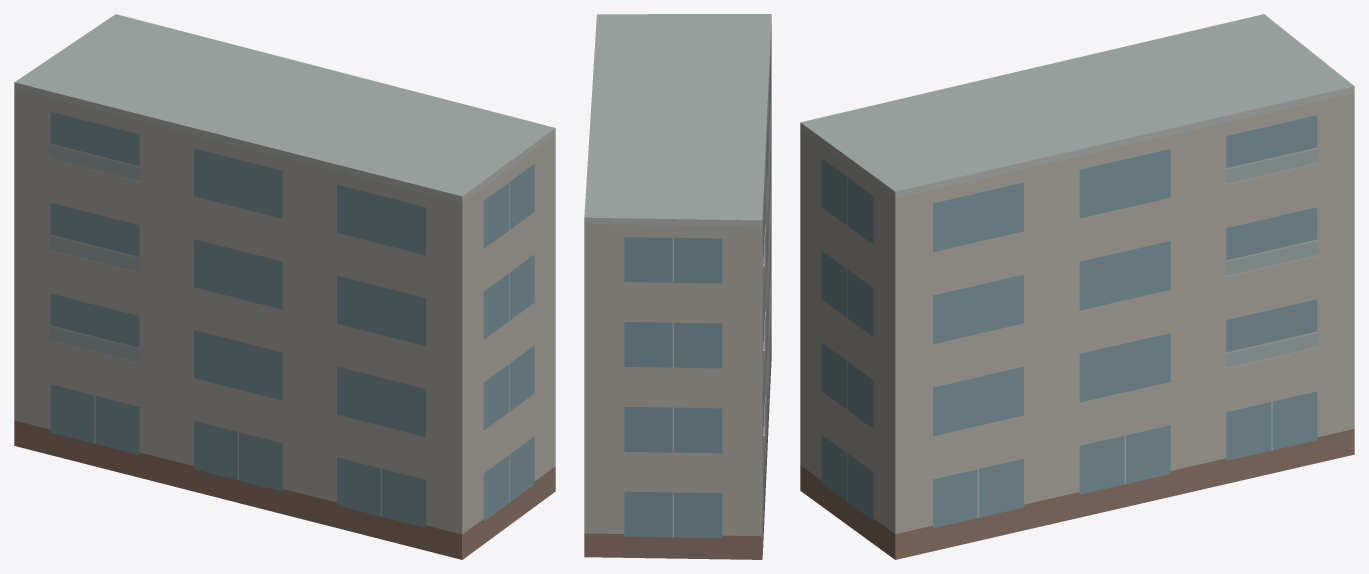
File: survey-upis-32976680.glb
3 views of the same model, side by side, from view 1: azimuth 30°, elevation 25°; view 2: azimuth 150°, elevation 25°; view 3: azimuth 270°, elevation 25° (orthographic). The views are drawn at different scales.
Parts seen in each view (by area): view 1: survey-upis-32976680.tmp; view 2: survey-upis-32976680.tmp; view 3: survey-upis-32976680.tmp.
Boxes of the visible parts, bbox=[...] form: survey-upis-32976680.tmp: bbox=[14, 14, 555, 559]; survey-upis-32976680.tmp: bbox=[584, 14, 771, 559]; survey-upis-32976680.tmp: bbox=[800, 14, 1354, 559].
Bounding box in the file's own units: 13.56 × 13.1 × 17.88.
